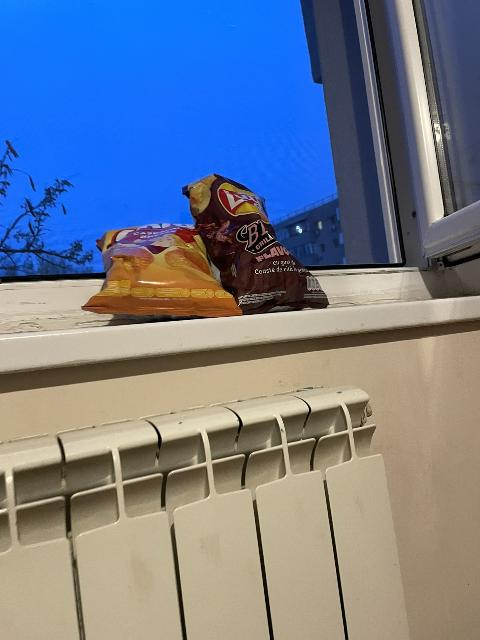Chio Cascaval 125g: (81, 224, 238, 318)
Lays Beef Grilled Ribs 125g: (185, 172, 327, 314)
